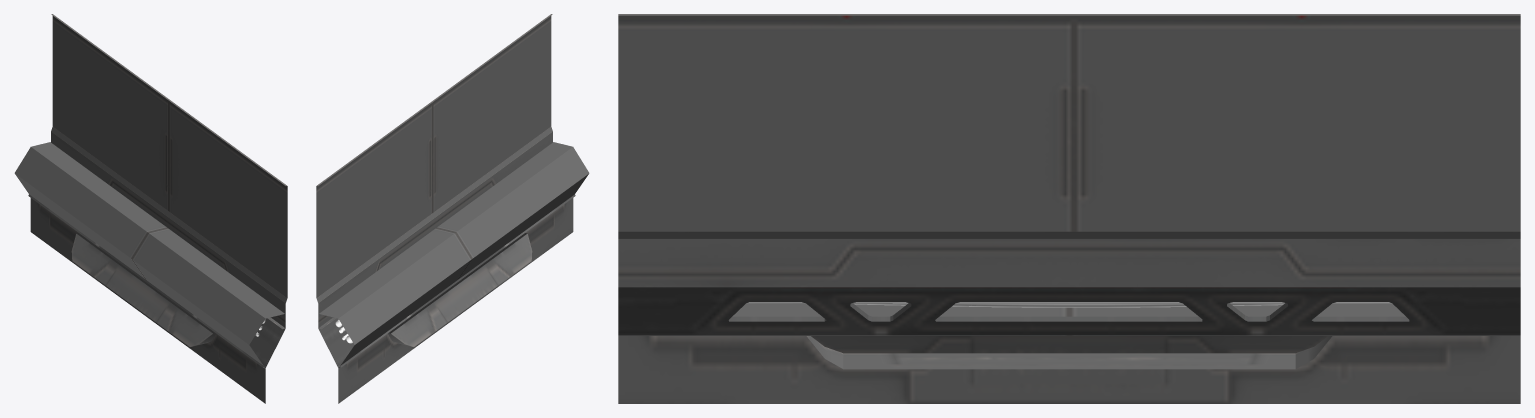
File: top-cables-TZeyjes9.glb
The picture shows the model from 3 angles, left to right: view 1: azimuth 30°, elevation 25°; view 2: azimuth 150°, elevation 25°; view 3: azimuth 270°, elevation 25°; orthographic projection. The views are drawn at different scales.
Parts seen in each view (by area): view 1: TopCables_Straight; view 2: TopCables_Straight; view 3: TopCables_Straight.
Part boxes in pixels (x1=…): TopCables_Straight: x1=14, y1=14, x2=287, y2=403; TopCables_Straight: x1=316, y1=14, x2=589, y2=403; TopCables_Straight: x1=618, y1=14, x2=1520, y2=403.
Bounding box in the file's own units: 0.3838 × 2 × 4.
Materials: 4 (3 with a texture image).
